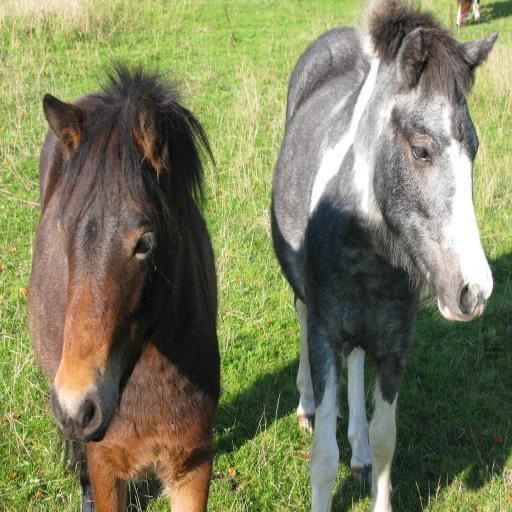horse: (270, 1, 498, 512), (24, 58, 218, 512)
